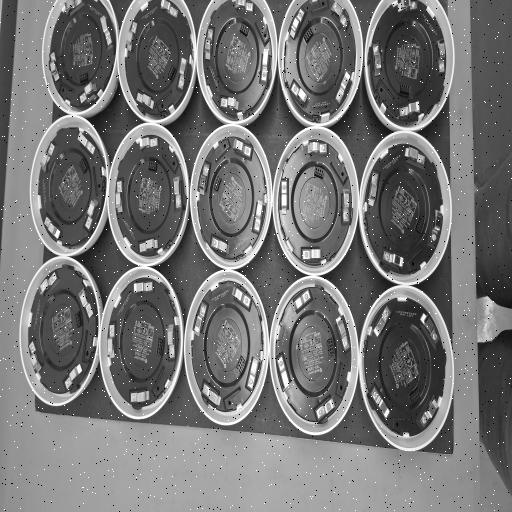konnektor: (236, 355, 246, 374), (415, 216, 425, 234), (78, 157, 88, 175), (409, 386, 419, 404), (239, 22, 250, 38), (167, 62, 176, 80), (213, 174, 222, 192), (327, 337, 335, 357), (400, 82, 411, 96), (156, 337, 164, 355), (74, 310, 82, 328), (314, 166, 324, 180), (304, 27, 313, 42), (148, 160, 158, 173), (79, 72, 89, 83)
yayli: (419, 394, 439, 429), (420, 311, 440, 345), (370, 386, 390, 420), (373, 305, 391, 338), (290, 82, 310, 110), (64, 362, 84, 390), (335, 70, 351, 104), (84, 197, 100, 230), (78, 286, 94, 319), (316, 395, 337, 420), (277, 355, 291, 392), (330, 1, 349, 28), (38, 270, 57, 297), (336, 315, 350, 351), (430, 208, 443, 246), (382, 248, 404, 270), (40, 141, 55, 173), (291, 289, 311, 313), (28, 340, 42, 374), (202, 383, 221, 408), (78, 132, 96, 158), (99, 14, 113, 47), (367, 170, 379, 208), (248, 352, 260, 390), (194, 302, 207, 337), (290, 8, 304, 40), (231, 286, 251, 308), (177, 56, 189, 92), (398, 100, 422, 118), (43, 216, 61, 240), (198, 162, 210, 196), (405, 146, 425, 166), (232, 138, 252, 158), (80, 81, 97, 104), (126, 21, 138, 53), (211, 236, 230, 256), (106, 323, 116, 360), (254, 197, 264, 232), (136, 92, 155, 110), (160, 0, 179, 18), (204, 27, 214, 61), (133, 279, 154, 295), (373, 42, 382, 78), (436, 38, 445, 74), (115, 179, 124, 215), (220, 96, 240, 112), (130, 388, 150, 404), (397, 0, 418, 15), (167, 324, 176, 359), (64, 0, 82, 17), (50, 52, 60, 82), (173, 176, 182, 209), (280, 181, 288, 216), (139, 138, 159, 152), (139, 238, 159, 252), (261, 48, 269, 82), (307, 142, 327, 155), (343, 187, 350, 224), (233, 0, 254, 12), (302, 249, 322, 260)
